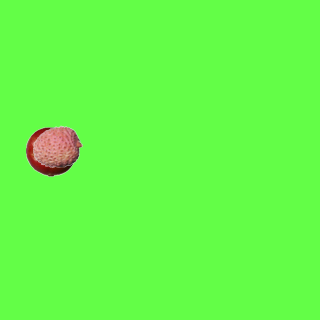Apple Braeburn: (25, 126, 75, 176)
Lychee: (32, 121, 82, 171)
